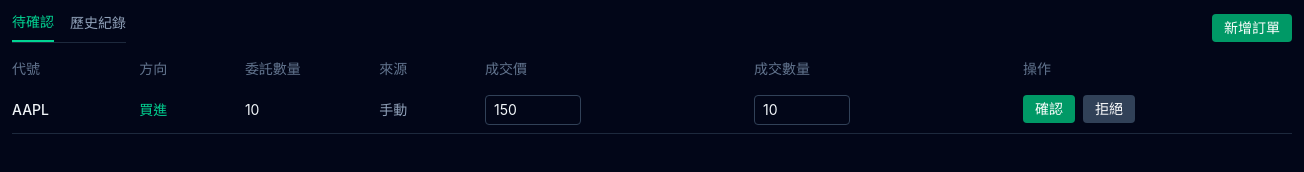
it: when confirming or rejecting fails › reports a failed rejection too
Click the button "拒絕": (1109, 109) [1083,95,1135,123]
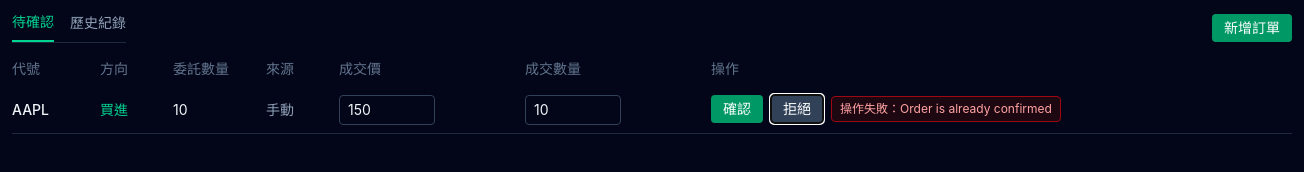
Check: the message shows "already confirmed", box [900,101,1052,116]
